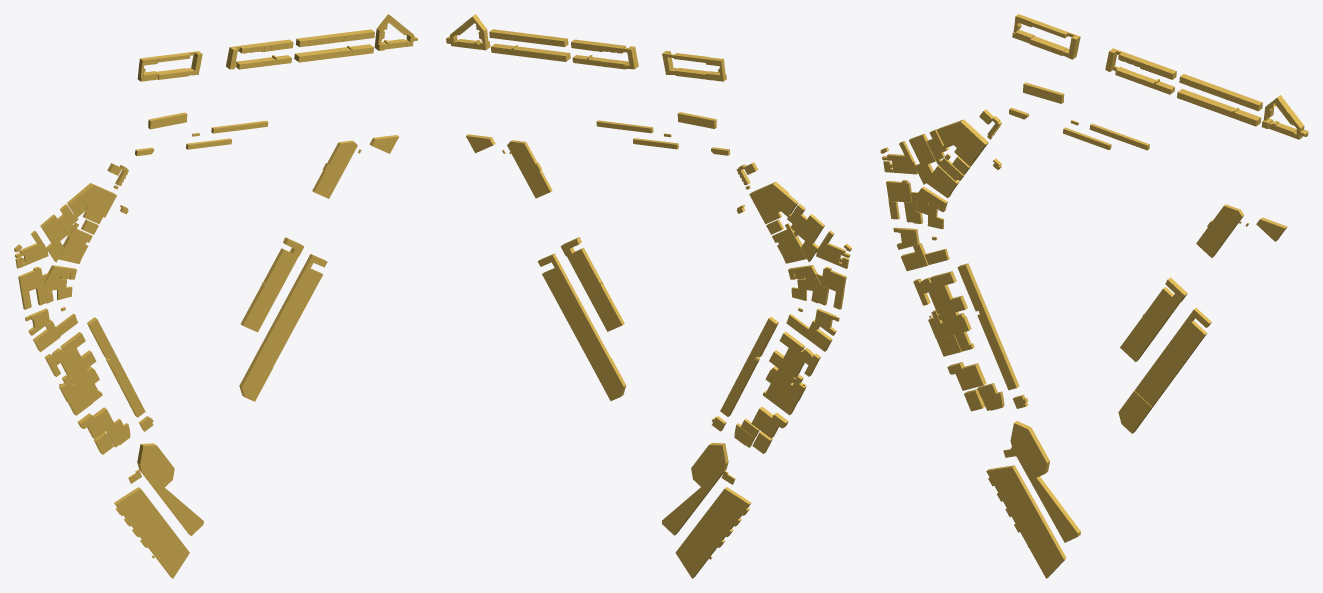
The model's file is yellow_buildings_lod12.obj.
The picture shows the model from 3 angles, left to right: view 1: azimuth 30°, elevation 25°; view 2: azimuth 150°, elevation 25°; view 3: azimuth 330°, elevation 25°; orthographic projection. The views are drawn at different scales.
Parts seen in each view (by area): view 1: BAG_0606100000016773, BAG_0599100000666060, BAG_0599100000269666, BAG_0606100000006659, BAG_0599100000666058, BAG_0599100000765600, BAG_0599100010054678, BAG_0599100000700501, BAG_0599100000382393, BAG_0599100000700899, BAG_0606100000009625, BAG_0599100100008411; view 2: BAG_0606100000016773, BAG_0599100000666060, BAG_0599100000269666, BAG_0606100000006659, BAG_0599100000666058, BAG_0599100000765600, BAG_0599100010054678, BAG_0599100000700501, BAG_0599100000382393, BAG_0599100000700899, BAG_0606100000009625; view 3: BAG_0606100000016773, BAG_0599100000269666, BAG_0606100000006659, BAG_0599100000666060, BAG_0599100000666058, BAG_0599100000765600, BAG_0599100000382393, BAG_0599100000700501, BAG_0599100010054678, BAG_0599100000700899, BAG_0606100000009625, BAG_0599100100011266 (+1 smaller).
Boxes of the visible parts, x1,y1,x2,y2 form: BAG_0606100000016773: [114, 487, 189, 578]; BAG_0599100000666060: [254, 271, 319, 366]; BAG_0599100000269666: [137, 443, 203, 535]; BAG_0606100000006659: [44, 332, 99, 402]; BAG_0599100000666058: [240, 248, 298, 332]; BAG_0599100000765600: [312, 140, 357, 198]; BAG_0599100010054678: [239, 358, 273, 401]; BAG_0599100000700501: [77, 183, 116, 217]; BAG_0599100000382393: [106, 355, 145, 417]; BAG_0599100000700899: [40, 214, 67, 262]; BAG_0606100000009625: [77, 407, 114, 438]; BAG_0599100100008411: [58, 236, 88, 263]; BAG_0606100000016773: [675, 487, 751, 578]; BAG_0599100000666060: [545, 271, 610, 366]; BAG_0599100000269666: [662, 443, 728, 535]; BAG_0606100000006659: [765, 331, 820, 402]; BAG_0599100000666058: [567, 248, 624, 331]; BAG_0599100000765600: [507, 140, 552, 198]; BAG_0599100010054678: [592, 358, 626, 400]; BAG_0599100000700501: [749, 182, 788, 216]; BAG_0599100000382393: [720, 355, 759, 416]; BAG_0599100000700899: [797, 214, 824, 261]; BAG_0606100000009625: [751, 406, 788, 438]; BAG_0606100000016773: [986, 465, 1066, 578]; BAG_0599100000269666: [1010, 421, 1080, 542]; BAG_0606100000006659: [913, 271, 971, 339]; BAG_0599100000666060: [1134, 323, 1203, 406]; BAG_0599100000666058: [1120, 287, 1179, 361]; BAG_0599100000765600: [1196, 204, 1243, 257]; BAG_0599100000382393: [977, 312, 1019, 390]; BAG_0599100000700501: [947, 119, 988, 161]; BAG_0599100010054678: [1118, 390, 1153, 433]; BAG_0599100000700899: [909, 133, 935, 184]; BAG_0606100000009625: [947, 362, 986, 390]; BAG_0599100100011266: [957, 263, 988, 314].
Size of the model in its own units: 910 by 1136 by 17.95.
